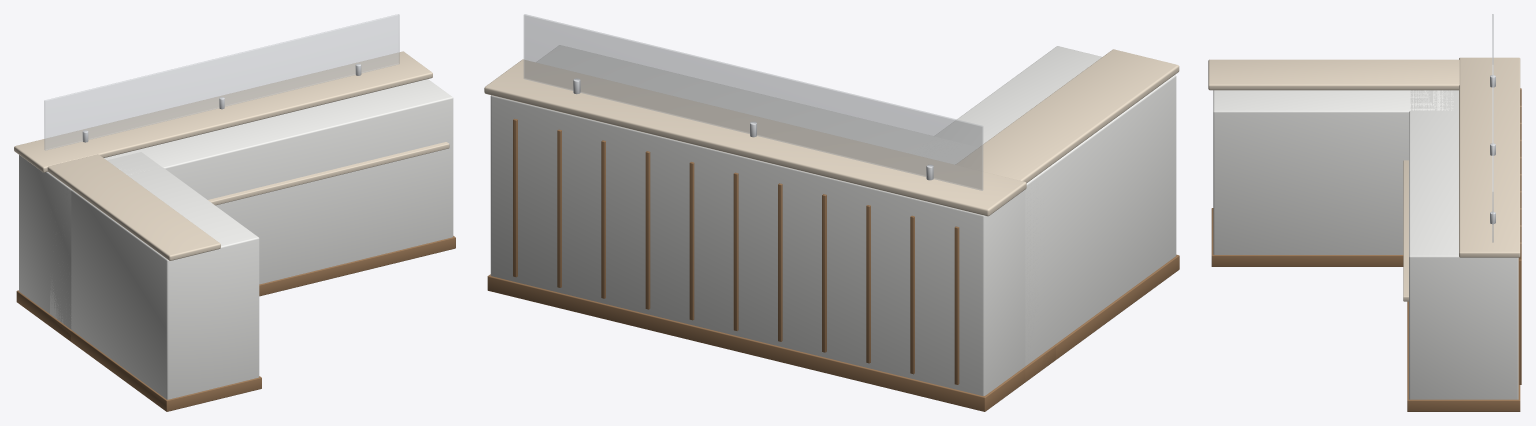
The model's file is reception_counter.glb.
3 views of the same model, side by side, from view 1: azimuth 30°, elevation 25°; view 2: azimuth 150°, elevation 25°; view 3: azimuth 270°, elevation 25° (orthographic). The views are drawn at different scales.
Parts seen in each view (by area): view 1: FrontBody, ReturnBody, GlassVisor, CounterTopPublic, ReturnTopPublic, Baseboard_Front, ReturnBaseboard, InternalDesk; view 2: FrontBody, ReturnBody, GlassVisor, CounterTopPublic, ReturnTopPublic, Baseboard_Front, ReturnBaseboard, Rib_0, Rib_7, Rib_5, Rib_6, Rib_10 (+6 smaller); view 3: ReturnBody, FrontBody, CounterTopPublic, ReturnTopPublic, ReturnBaseboard, Baseboard_Front, InternalDesk, GlassVisor, Rib_10.
Boxes of the visible parts, x1,y1,x2,y2 form: FrontBody: (19, 79, 453, 329); ReturnBody: (50, 152, 259, 399); GlassVisor: (44, 14, 399, 150); CounterTopPublic: (14, 51, 432, 172); ReturnTopPublic: (47, 154, 220, 260); Baseboard_Front: (16, 236, 455, 341); ReturnBaseboard: (52, 318, 261, 411); InternalDesk: (208, 142, 449, 205); FrontBody: (490, 45, 1051, 395); ReturnBody: (926, 46, 1176, 365); GlassVisor: (523, 14, 983, 190); CounterTopPublic: (484, 59, 1026, 216); ReturnTopPublic: (955, 49, 1179, 183); Baseboard_Front: (487, 274, 1055, 411); ReturnBaseboard: (1024, 254, 1179, 381); Rib_0: (954, 226, 959, 384); Rib_7: (645, 151, 650, 309); Rib_5: (733, 172, 738, 330); Rib_6: (689, 162, 694, 320); Rib_10: (513, 118, 517, 277); ReturnBody: (1213, 90, 1453, 254); FrontBody: (1409, 90, 1518, 399); CounterTopPublic: (1459, 57, 1520, 257); ReturnTopPublic: (1208, 59, 1459, 90); ReturnBaseboard: (1211, 208, 1403, 266); Baseboard_Front: (1407, 258, 1520, 411); InternalDesk: (1403, 160, 1408, 301); GlassVisor: (1492, 14, 1493, 242); Rib_10: (1519, 259, 1521, 384).
Size of the model in its own units: 2.86 by 1.45 by 1.94.
